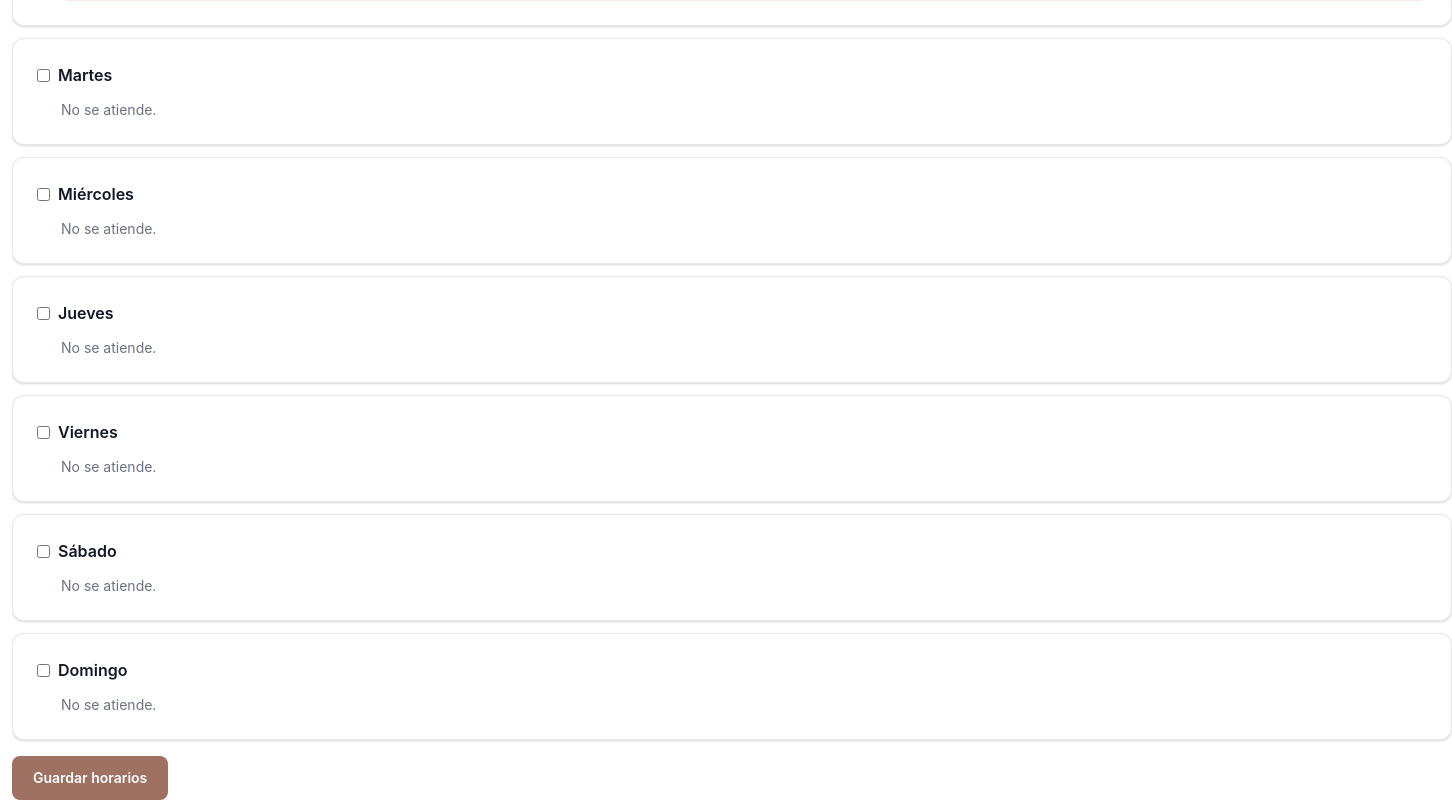
Test: ScheduleEditor › shows a success toast after saving
(page scrolled)
Click the button "Guardar horarios".
click(90, 778)  # box left=12, top=756, right=168, bottom=799
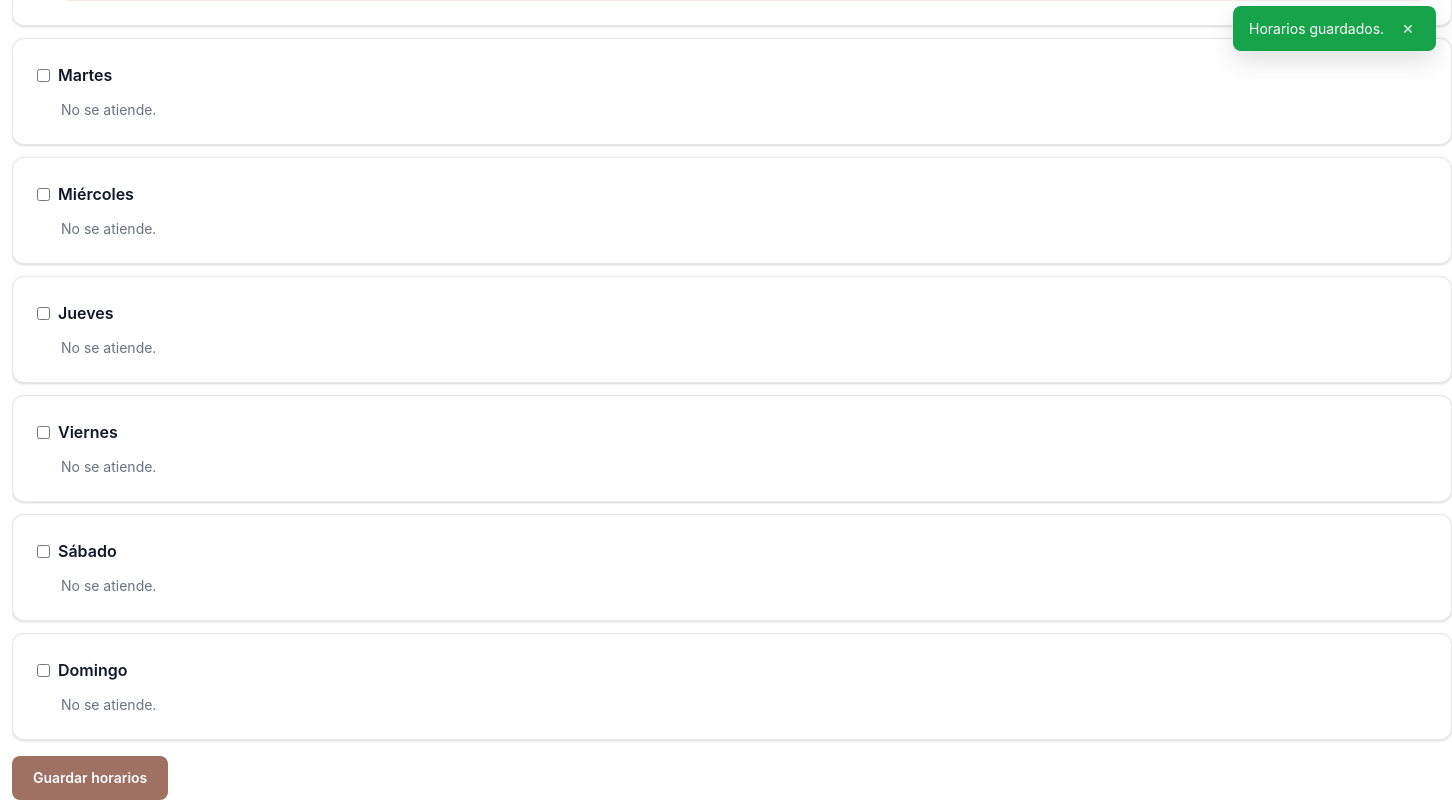
Now the message shows "Horarios guardados.", box left=1249, top=20, right=1384, bottom=37
